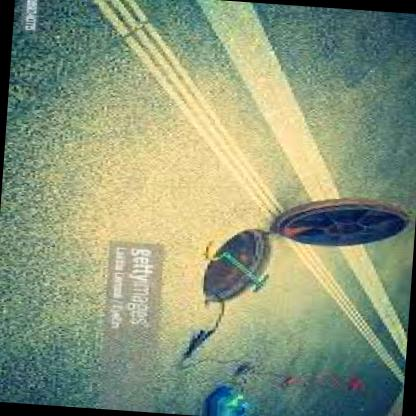manholes: (172, 173, 416, 337)
